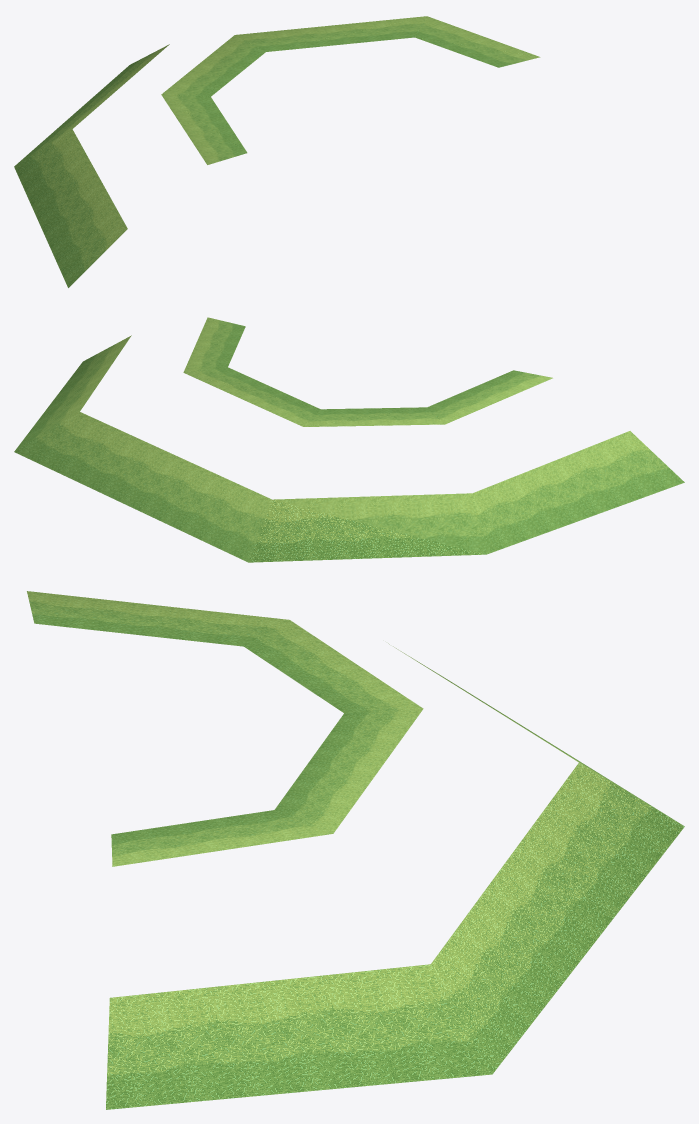
The model's file is kd_stage_1364a3_4_7.glb.
3 views of the same model, one above another, from view 1: azimuth 30°, elevation 25°; view 2: azimuth 150°, elevation 25°; view 3: azimuth 270°, elevation 25° (orthographic). The views are drawn at different scales.
Parts seen in each view (by area): view 1: kd_stage_1364a3_4_7; view 2: kd_stage_1364a3_4_7; view 3: kd_stage_1364a3_4_7.
Part boxes in pixels (left/top/right/bottom): kd_stage_1364a3_4_7: left=14, top=16, right=540, bottom=287; kd_stage_1364a3_4_7: left=14, top=317, right=684, bottom=562; kd_stage_1364a3_4_7: left=27, top=591, right=684, bottom=1109.
Size of the model in its own units: 117 by 14.8 by 66.95.
1 material, 1 textured.
